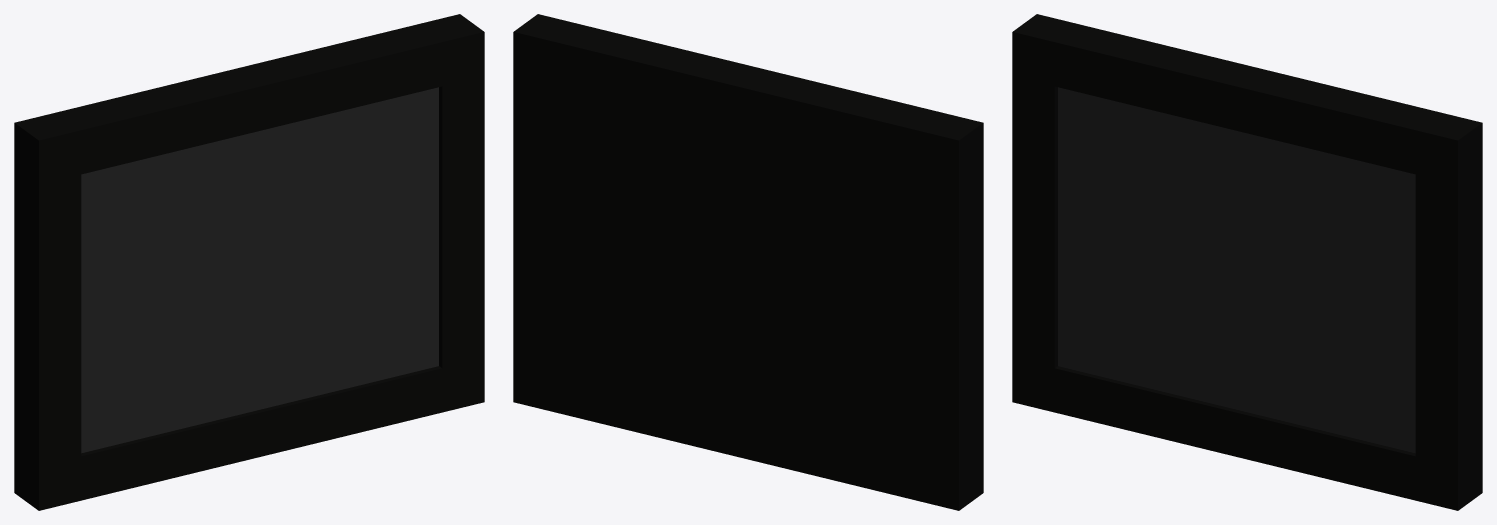
The model's file is Itr_Obj_Laptop_Screen_off_01.FBX.
3 renders of one model, left to right at view 1: azimuth 30°, elevation 25°; view 2: azimuth 150°, elevation 25°; view 3: azimuth 330°, elevation 25°, orthographic.
Visible parts, largest first — view 1: Itr_Obj_Laptop_Screen_off_01; view 2: Itr_Obj_Laptop_Screen_off_01; view 3: Itr_Obj_Laptop_Screen_off_01.
Boxes of the visible parts, x1=… form: Itr_Obj_Laptop_Screen_off_01: x1=14, y1=14, x2=484, y2=510; Itr_Obj_Laptop_Screen_off_01: x1=513, y1=14, x2=983, y2=510; Itr_Obj_Laptop_Screen_off_01: x1=1012, y1=14, x2=1482, y2=510.
Size of the model in its own units: 29.1 by 23.12 by 2.77.
